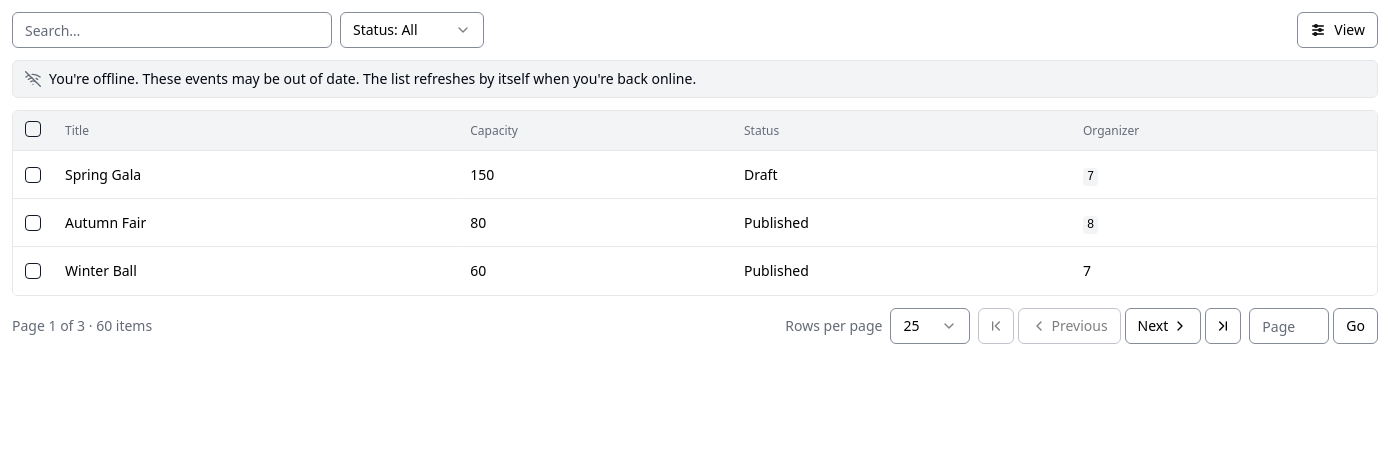
Test: bulk actions › reports a partial failure row by row: failed rows say why, the rest are deselected
Click the checkbox named "Select Spring Gala". click: (33, 174)
box: [25,166,41,182]
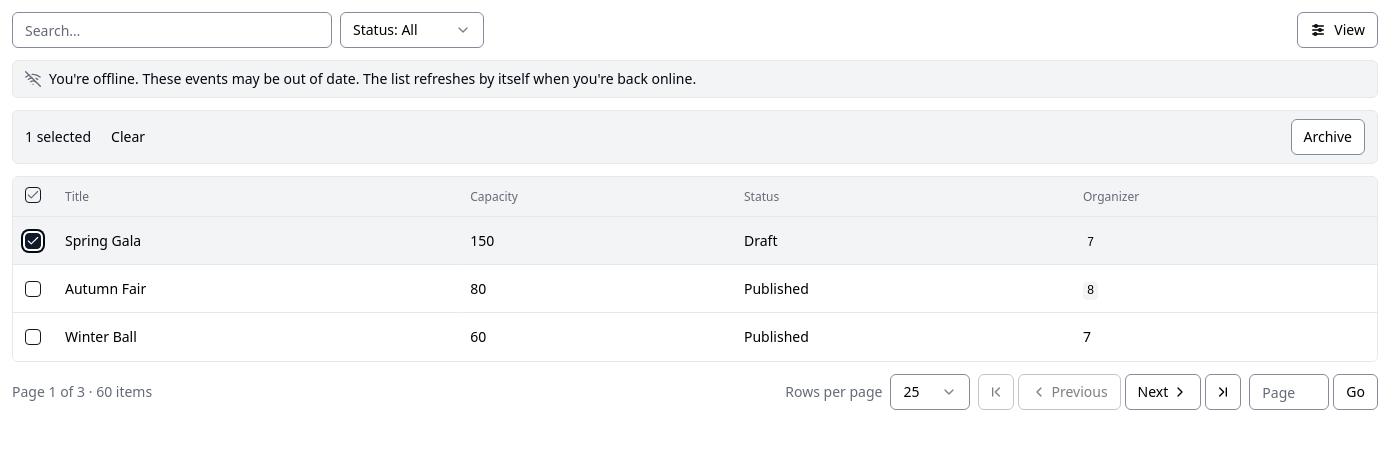
Click the checkbox named "Select Autumn Fair". click: (33, 288)
box: [25,280,41,296]
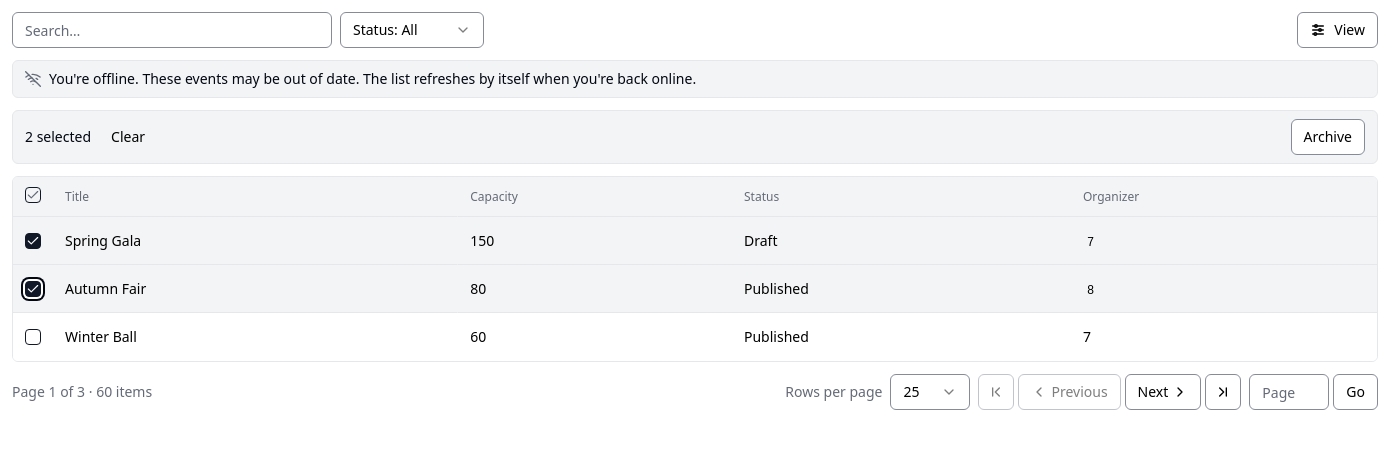
Click the checkbox named "Select Winter Ball". click: (33, 337)
box: [25,329,41,345]
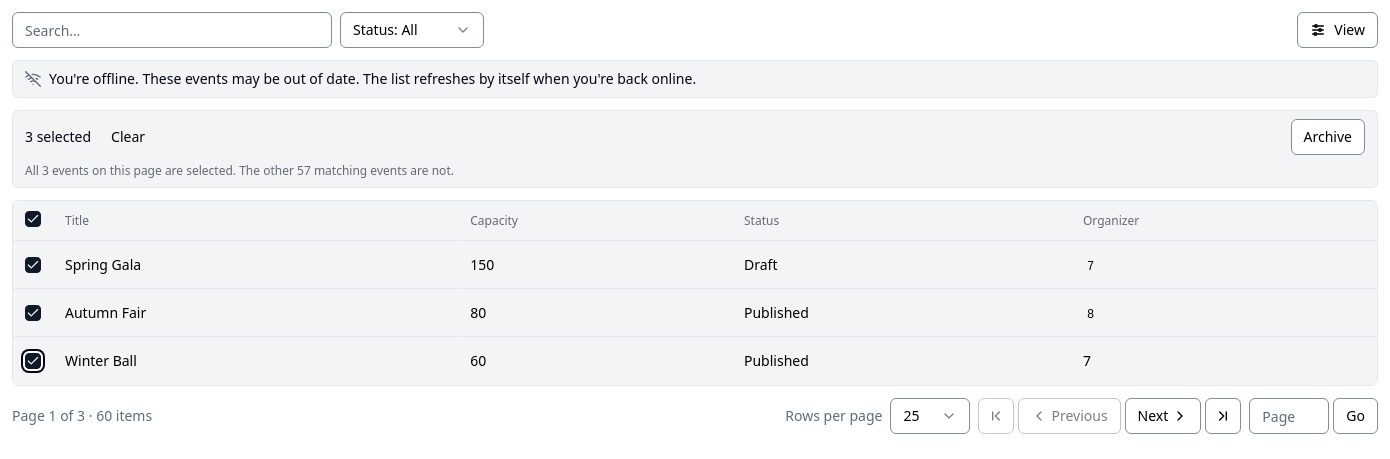
Click the button "Archive". click: (1328, 137)
box: [1290,119,1365,155]
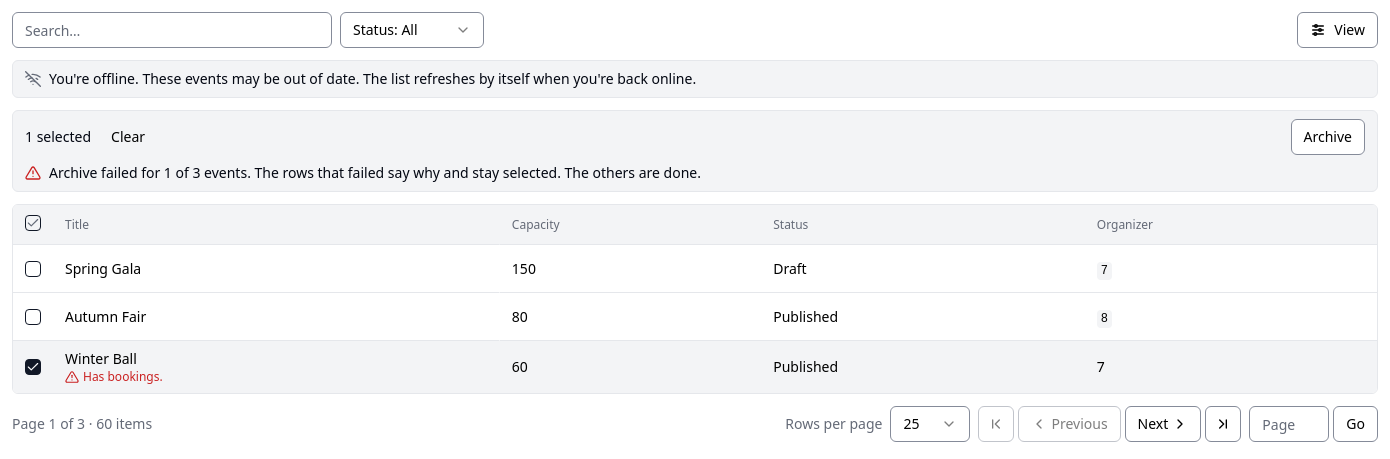
Result: the checkbox named "Select Winter Ball" is checked at [25,359,41,375]
Result: the text "Has bookings." is shown at [65,368,163,385]
Result: the message that starts with "Archive" shows "Archive failed for 1 of 3 events" at [25,163,701,182]
